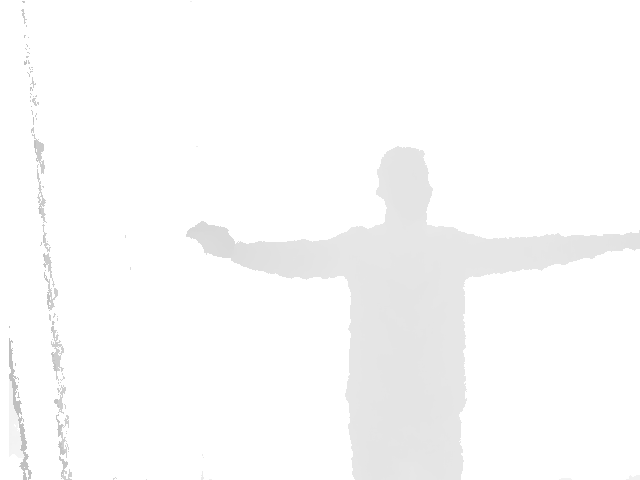head: (375, 146, 433, 217)
person: (184, 146, 640, 480)
